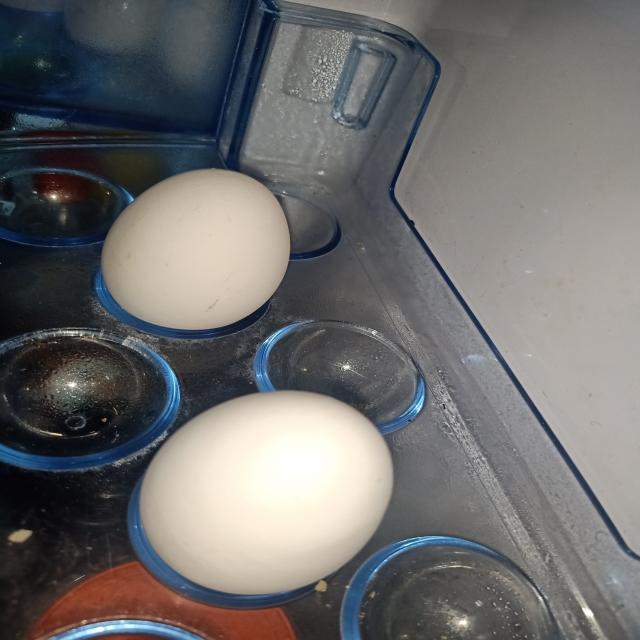Egg: (118, 373, 409, 614), (88, 137, 329, 349)
